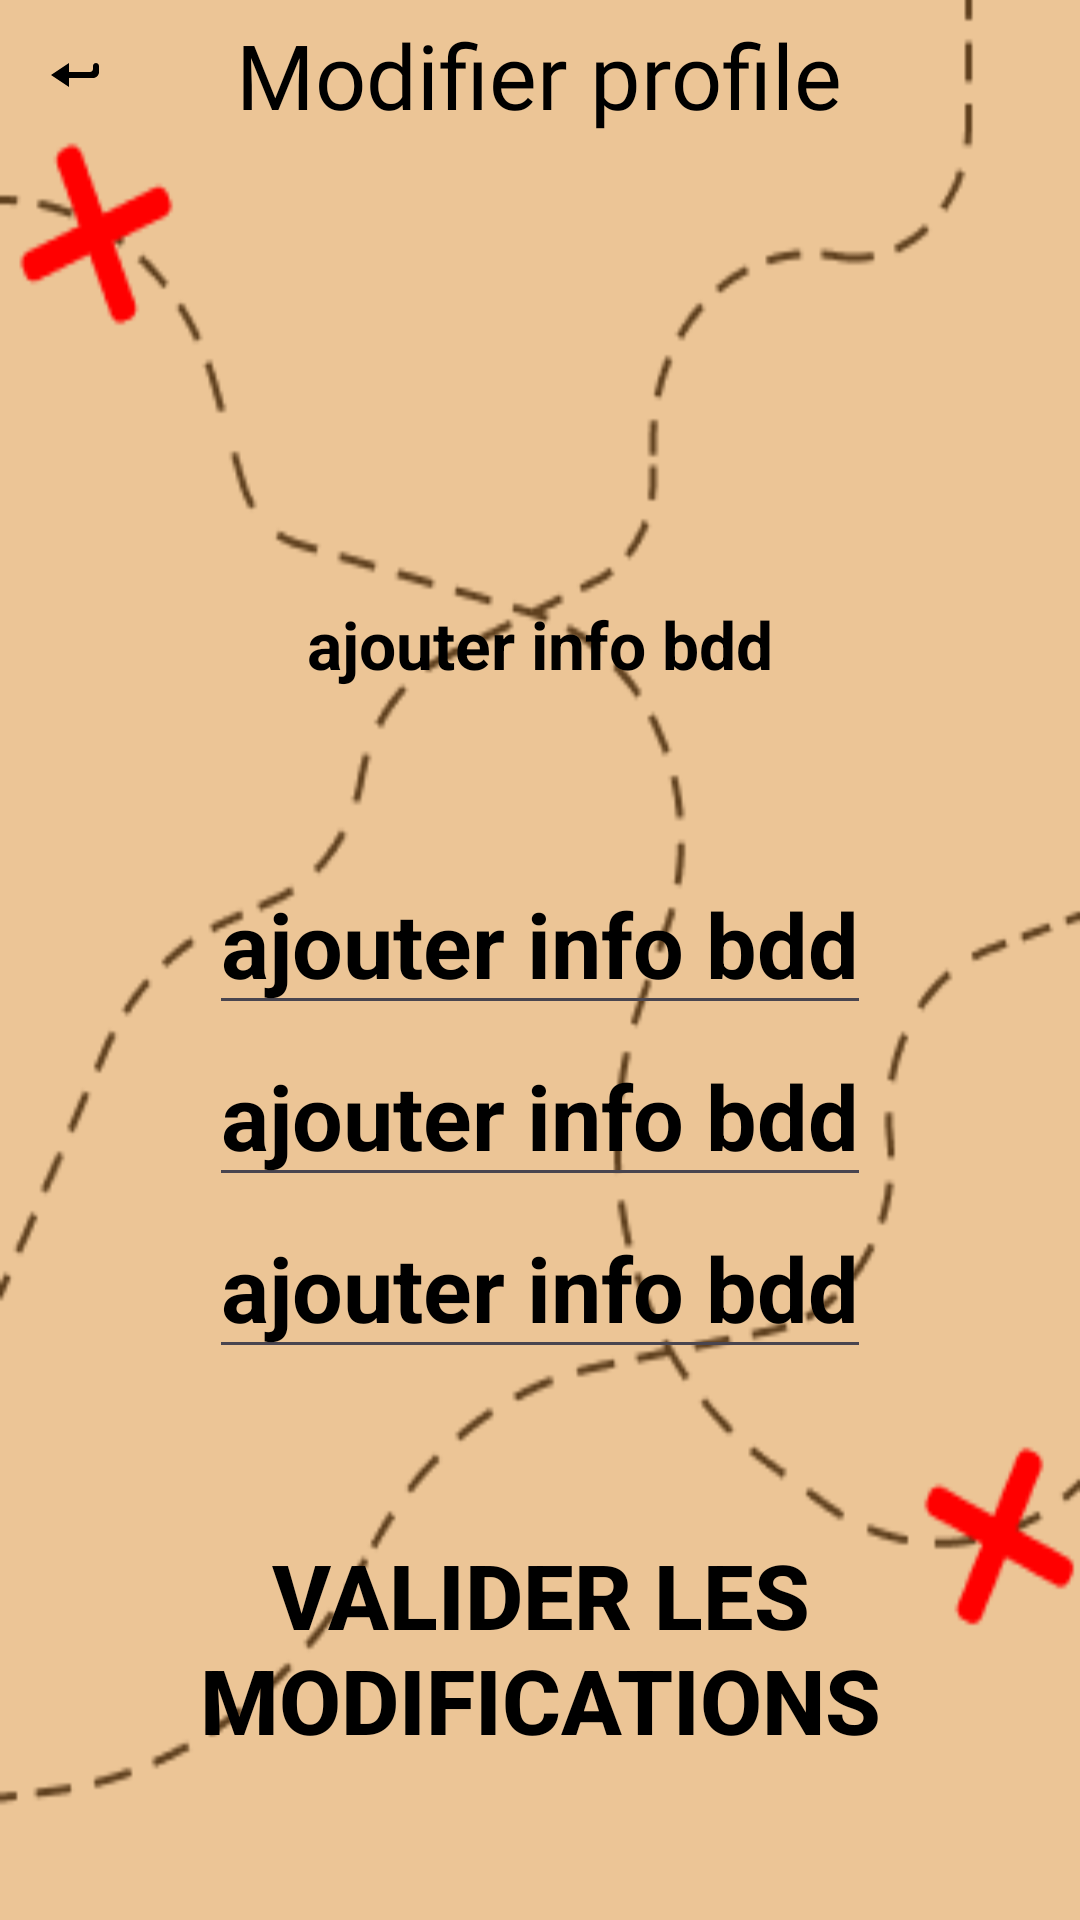

Icon click points for this 1080w x 1920h phone screenshot, format (x=x, y=y):
Retour: (x=75, y=75)
